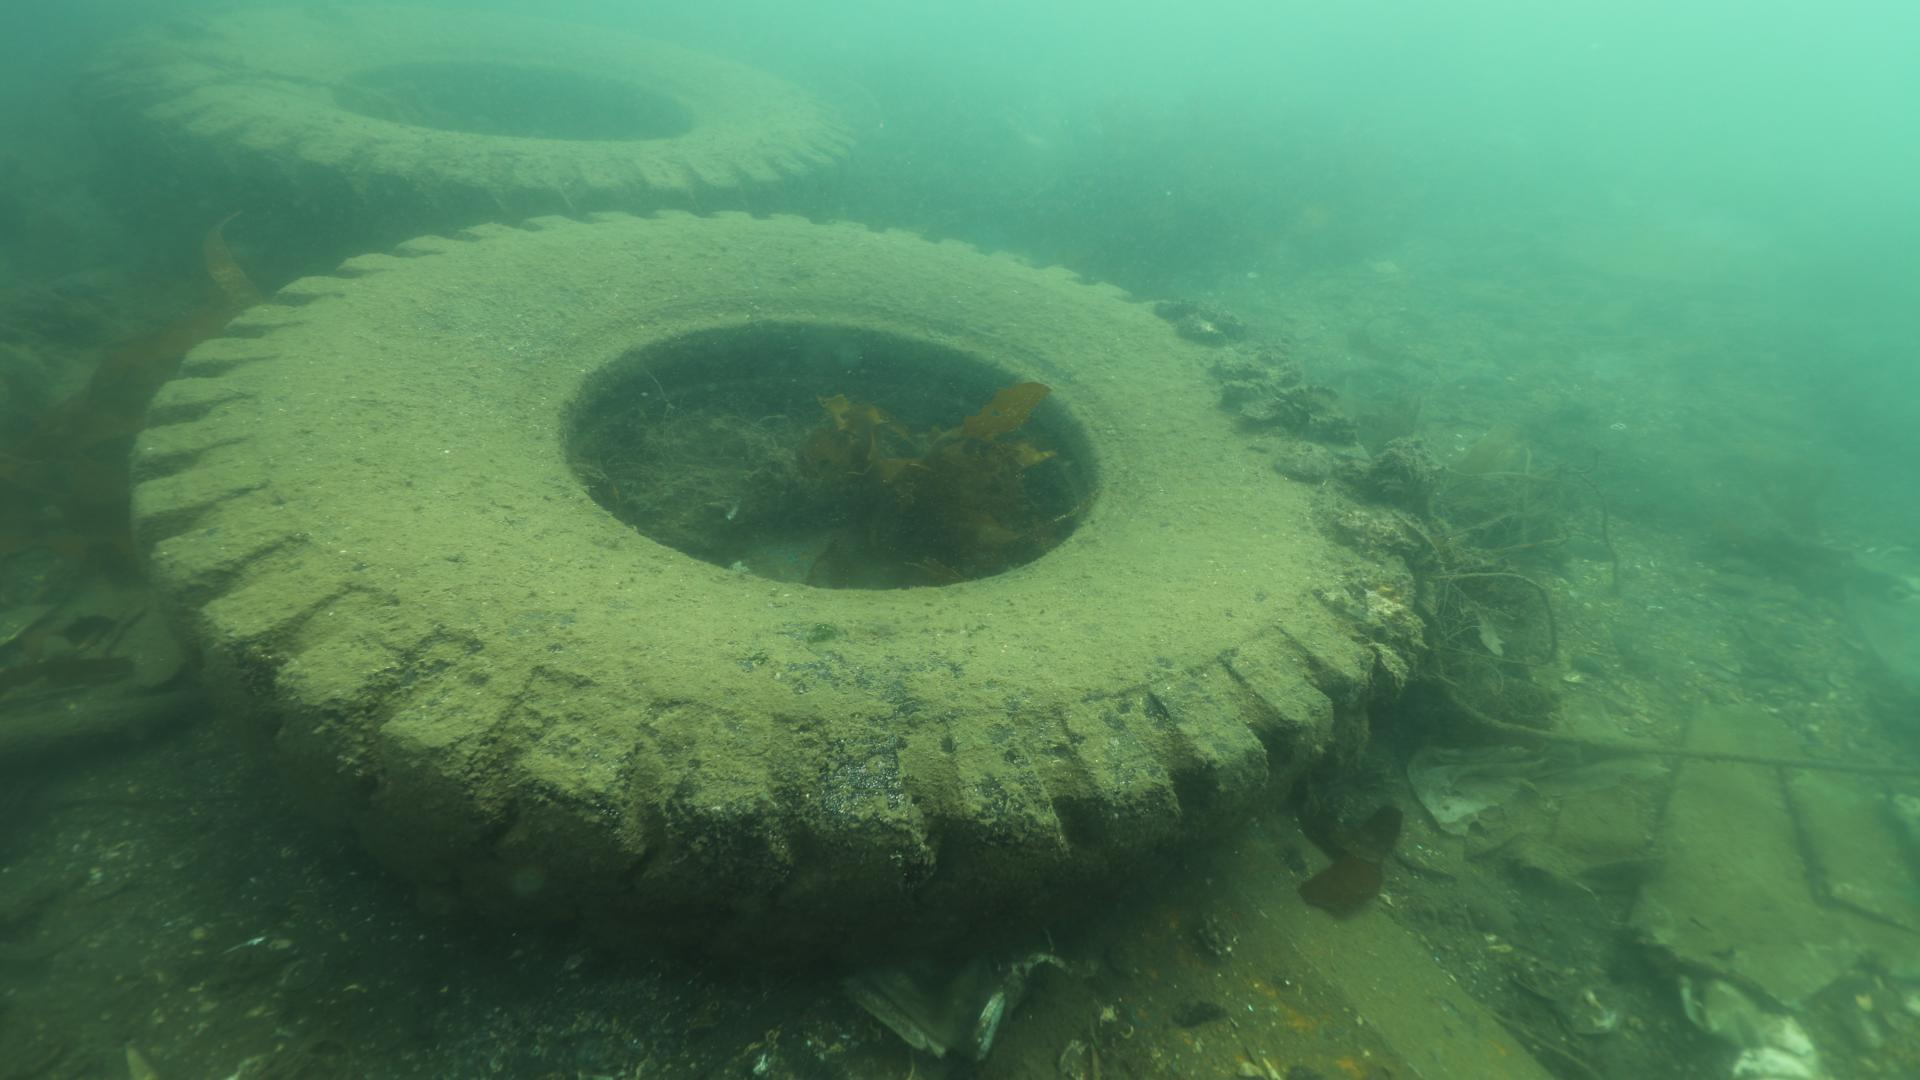tire: (128, 206, 1420, 978), (88, 0, 857, 272)
